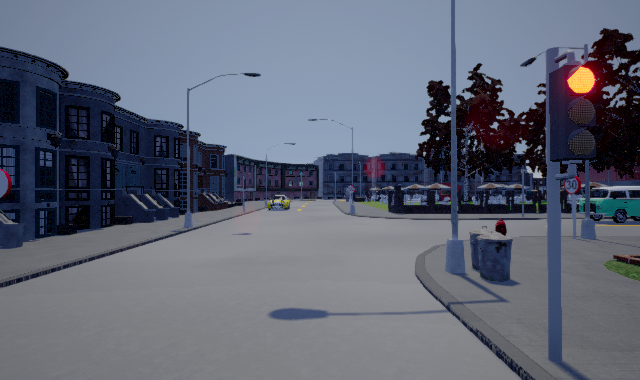traffic_light: (549, 50, 604, 194)
traffic_sign: (1, 169, 12, 199), (562, 176, 581, 193), (347, 185, 355, 193)
vehicle: (581, 186, 640, 223), (268, 195, 290, 211)
